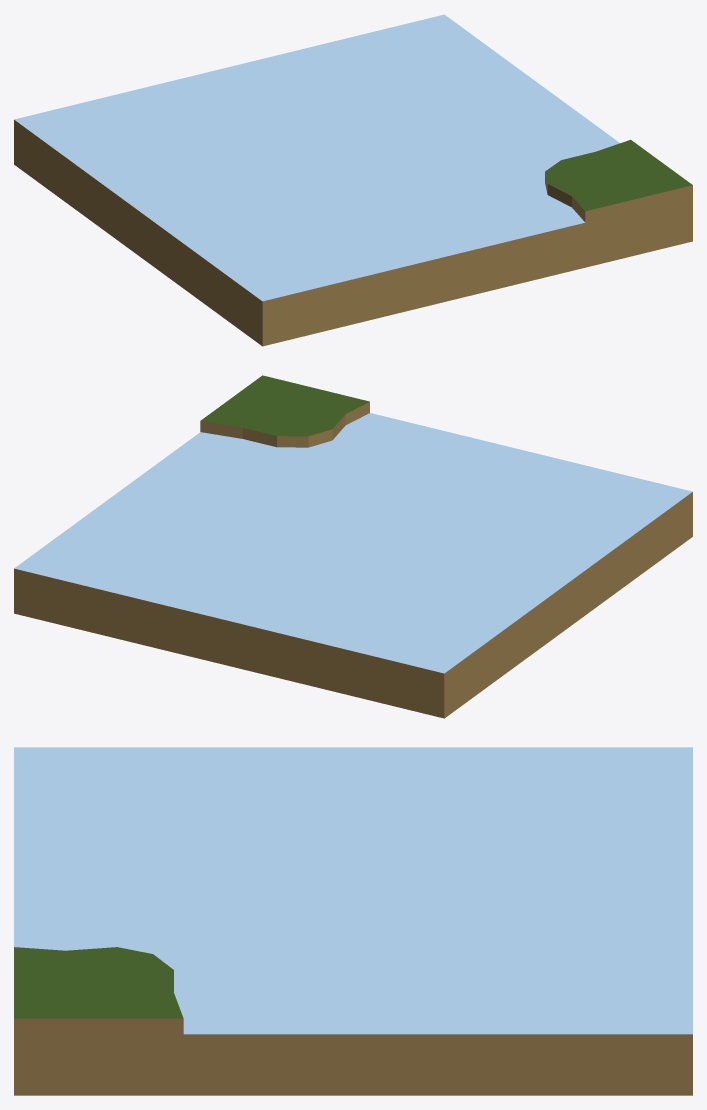
Rendered from Terrain_Tile_Grass_Dirt_Water_Bank_Corner_05.fbx.
3 renders of one model, top to bottom at view 1: azimuth 30°, elevation 25°; view 2: azimuth 150°, elevation 25°; view 3: azimuth 270°, elevation 25°, orthographic. The views are drawn at different scales.
Parts seen in each view (by area): view 1: Terrain_Tile_Grass_Dirt_Water_Bank_Corner_05; view 2: Terrain_Tile_Grass_Dirt_Water_Bank_Corner_05; view 3: Terrain_Tile_Grass_Dirt_Water_Bank_Corner_05.
Boxes of the visible parts, box(x1,y1,x2,y2) form: Terrain_Tile_Grass_Dirt_Water_Bank_Corner_05: box(14, 14, 692, 346); Terrain_Tile_Grass_Dirt_Water_Bank_Corner_05: box(14, 375, 692, 718); Terrain_Tile_Grass_Dirt_Water_Bank_Corner_05: box(14, 747, 692, 1095).
Bounding box in the file's own units: 126 × 15.75 × 126.
